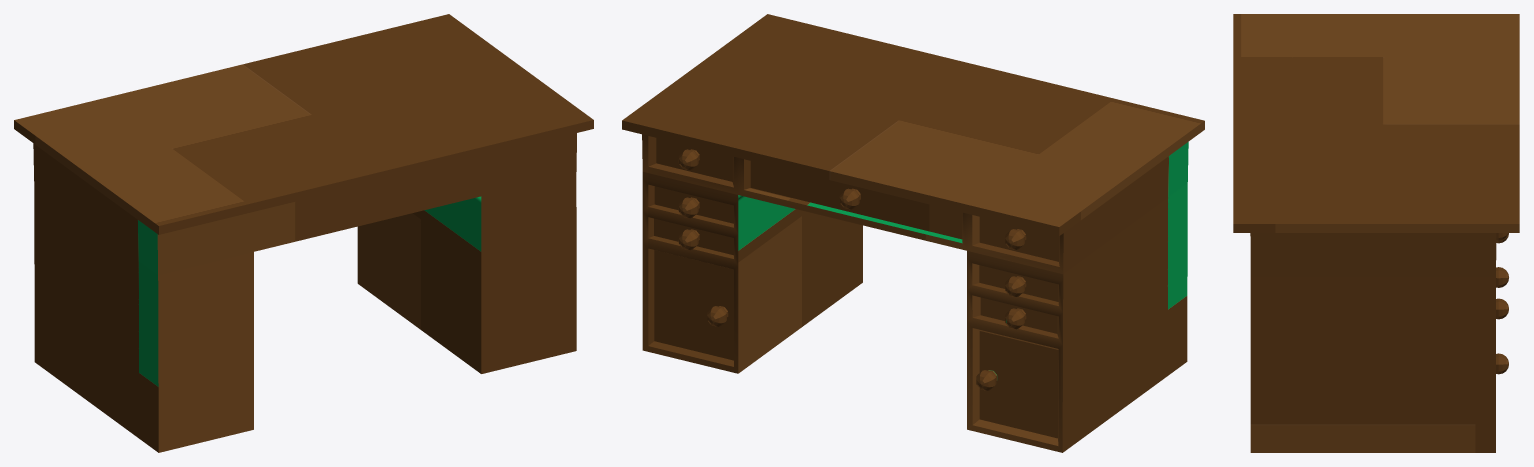
The model's file is Table1.fbx.
3 views of the same model, side by side, from view 1: azimuth 30°, elevation 25°; view 2: azimuth 150°, elevation 25°; view 3: azimuth 270°, elevation 25° (orthographic).
Parts seen in each view (by area): view 1: DrawerTable; view 2: DrawerTable; view 3: DrawerTable.
Boxes of the visible parts, x1,y1,x2,y2 form: DrawerTable: [14, 14, 593, 452]; DrawerTable: [622, 14, 1204, 452]; DrawerTable: [1233, 14, 1519, 452].
Bounding box in the file's own units: 8.48 × 4.39 × 4.89.
